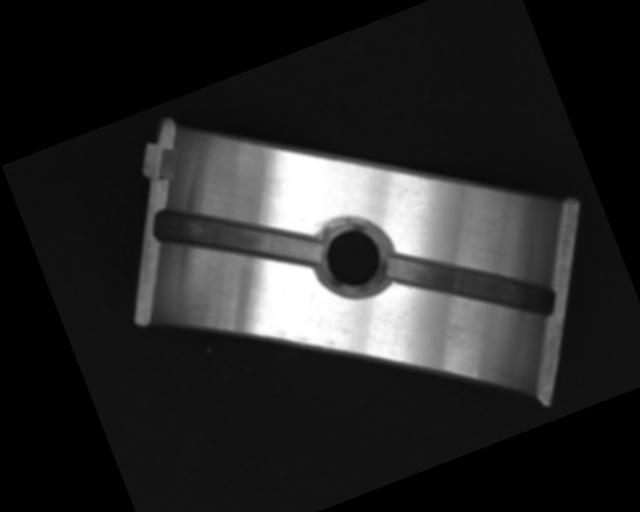gap: (379, 207, 560, 363), (148, 161, 324, 314)
hole: (307, 211, 400, 305)
